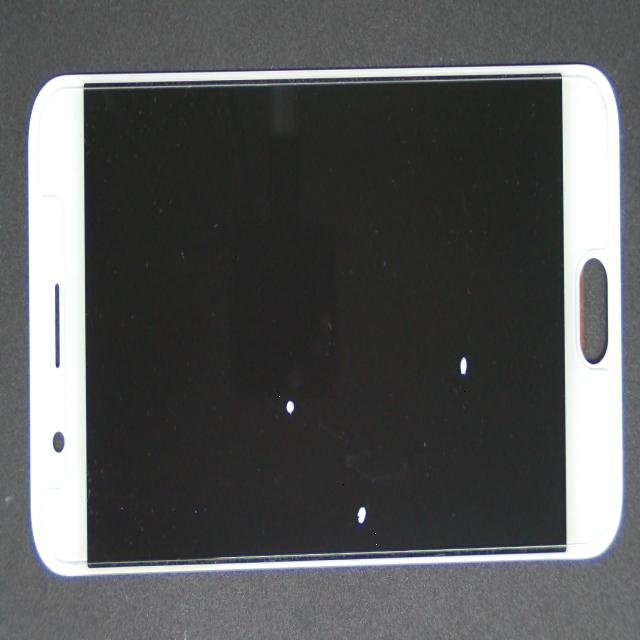stain: (221, 135, 640, 529), (171, 277, 512, 640), (134, 174, 417, 600)
